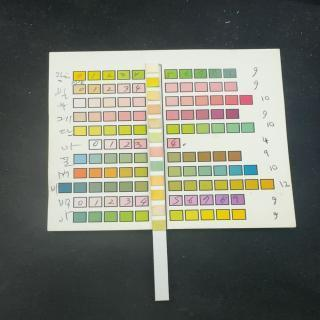mark: (150, 204, 166, 216), (148, 118, 164, 129), (150, 146, 164, 158), (151, 220, 166, 231), (150, 190, 164, 201), (147, 104, 161, 115), (150, 176, 164, 186), (150, 161, 164, 171), (149, 132, 163, 142), (147, 91, 161, 101), (146, 78, 160, 88), (146, 66, 161, 73)
